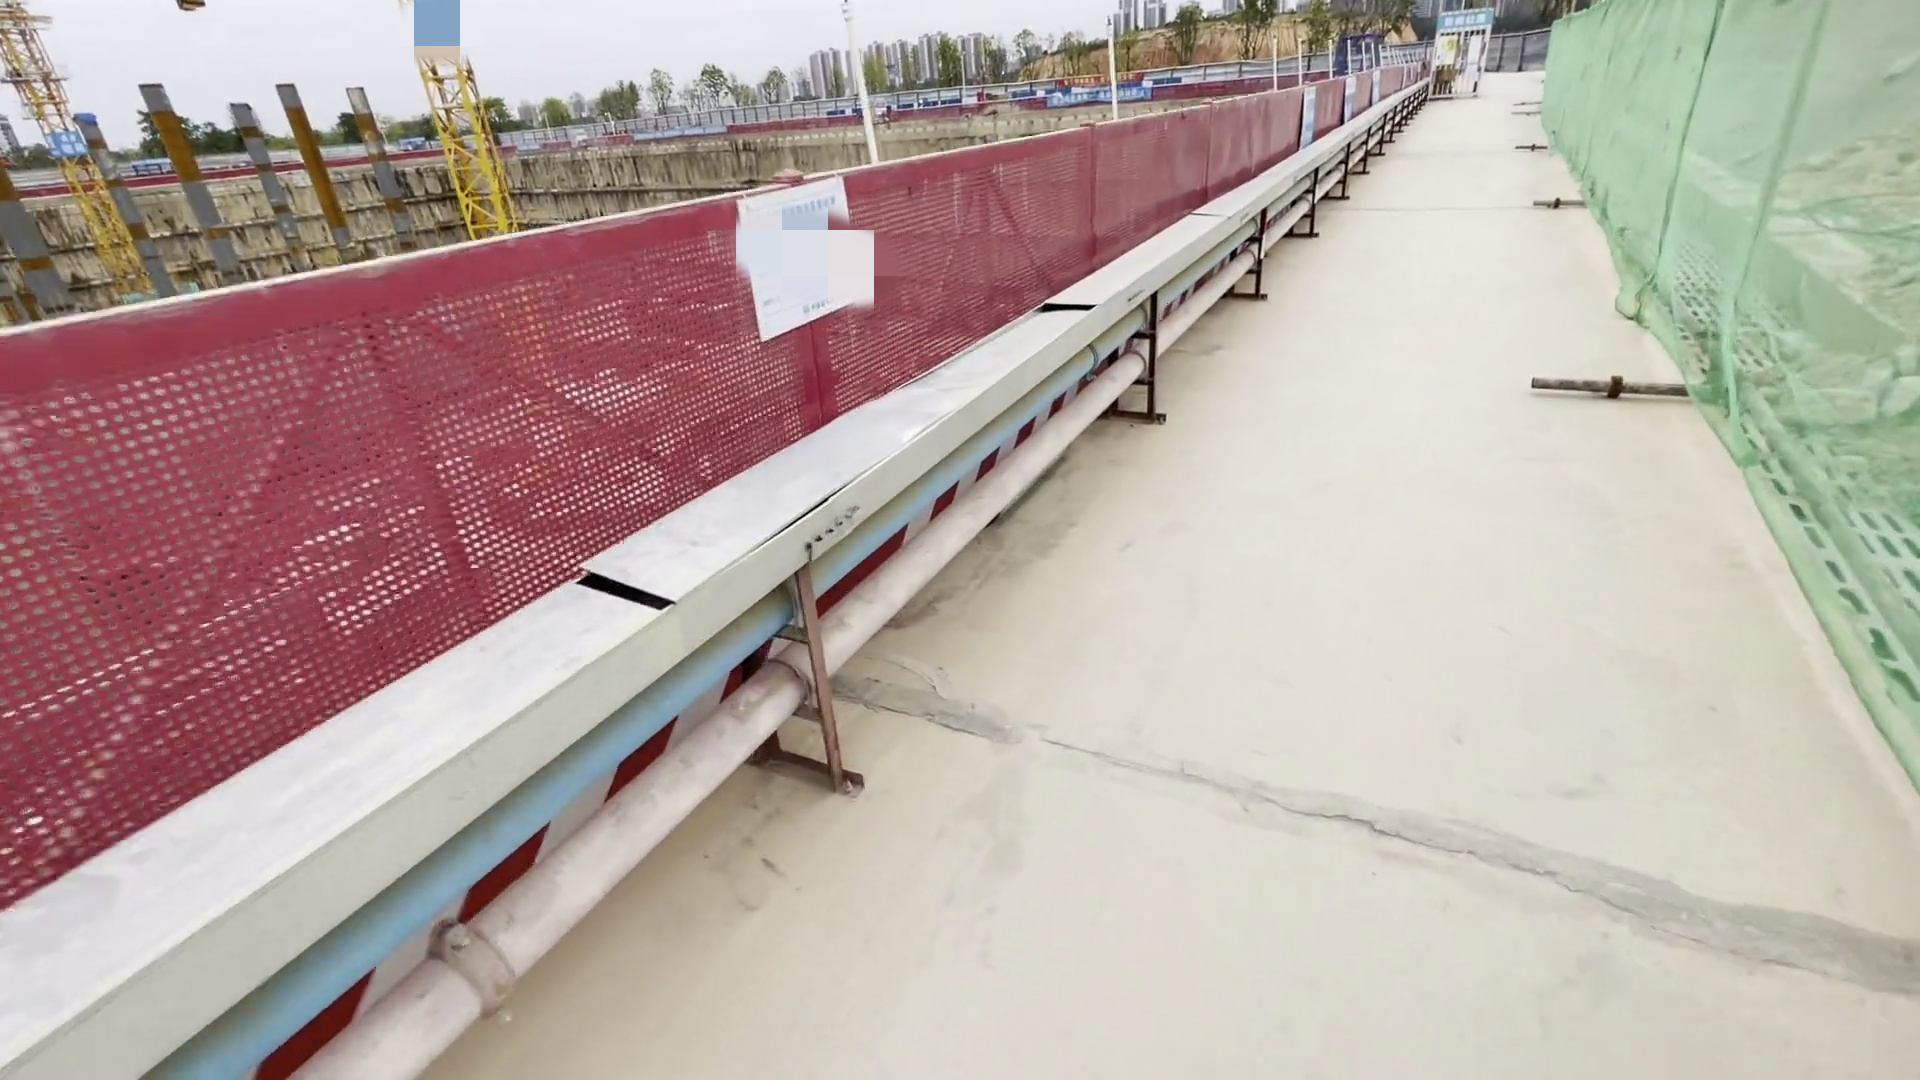fence: (87, 57, 1429, 864)
slogan: (1443, 11, 1487, 26)
